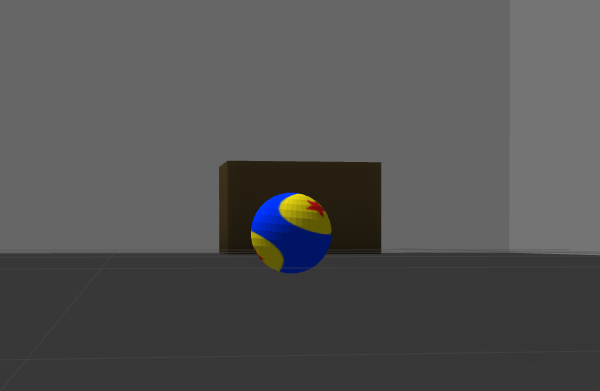toy story ball: (250, 192, 333, 274)
